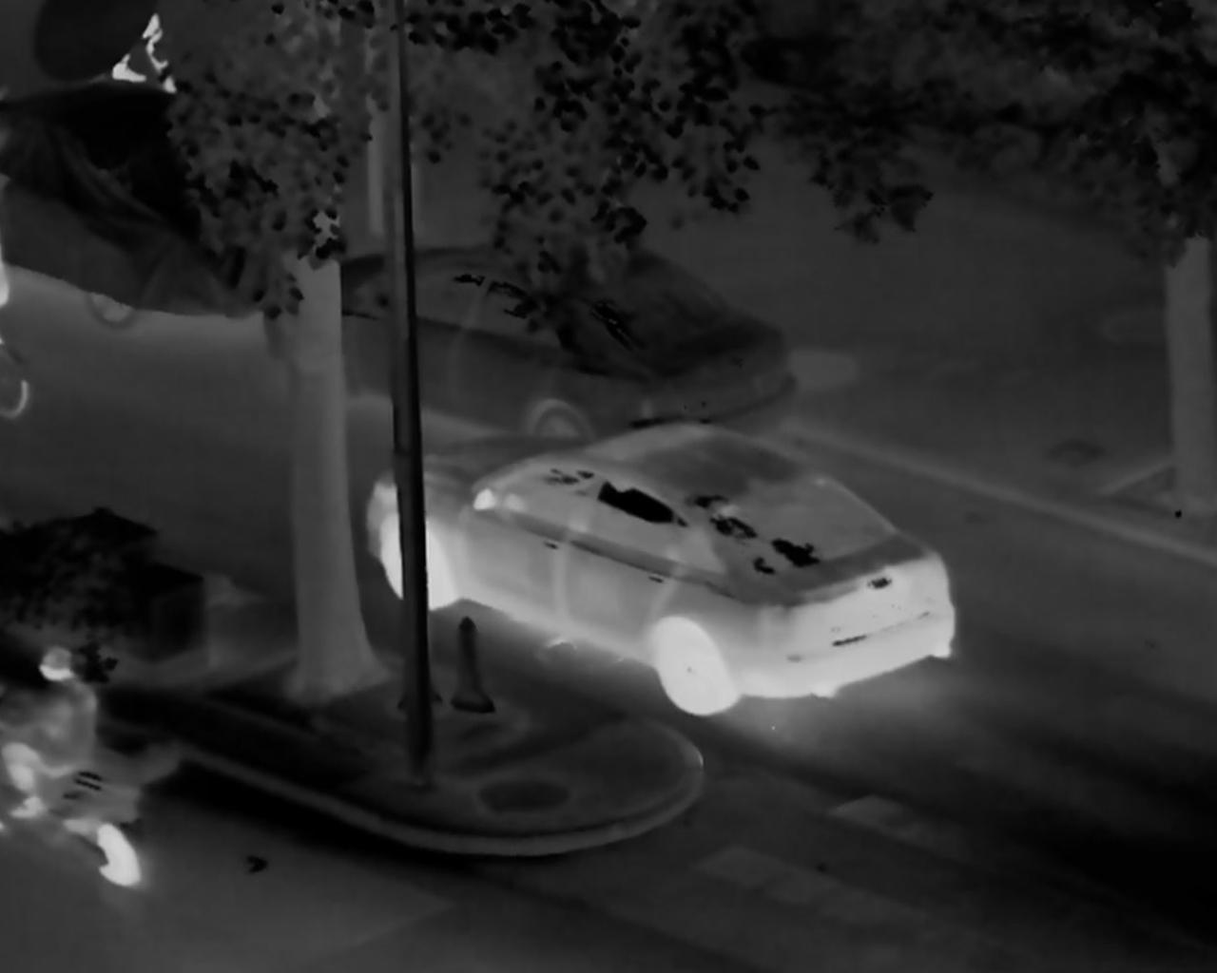person: (3, 650, 96, 823)
